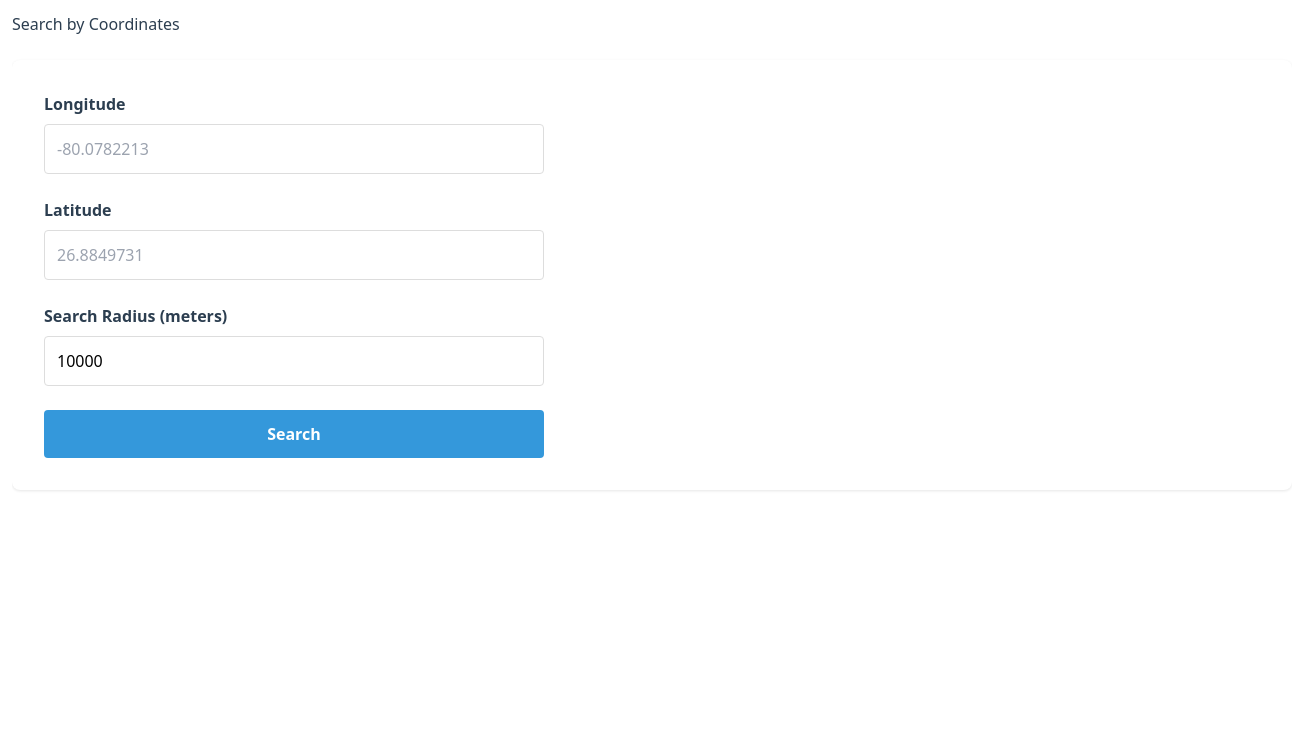
CoordinateSearch › should handle search API errors
In the field labelled "Longitude": (294, 149) [44,124,544,174], type "-80.078"
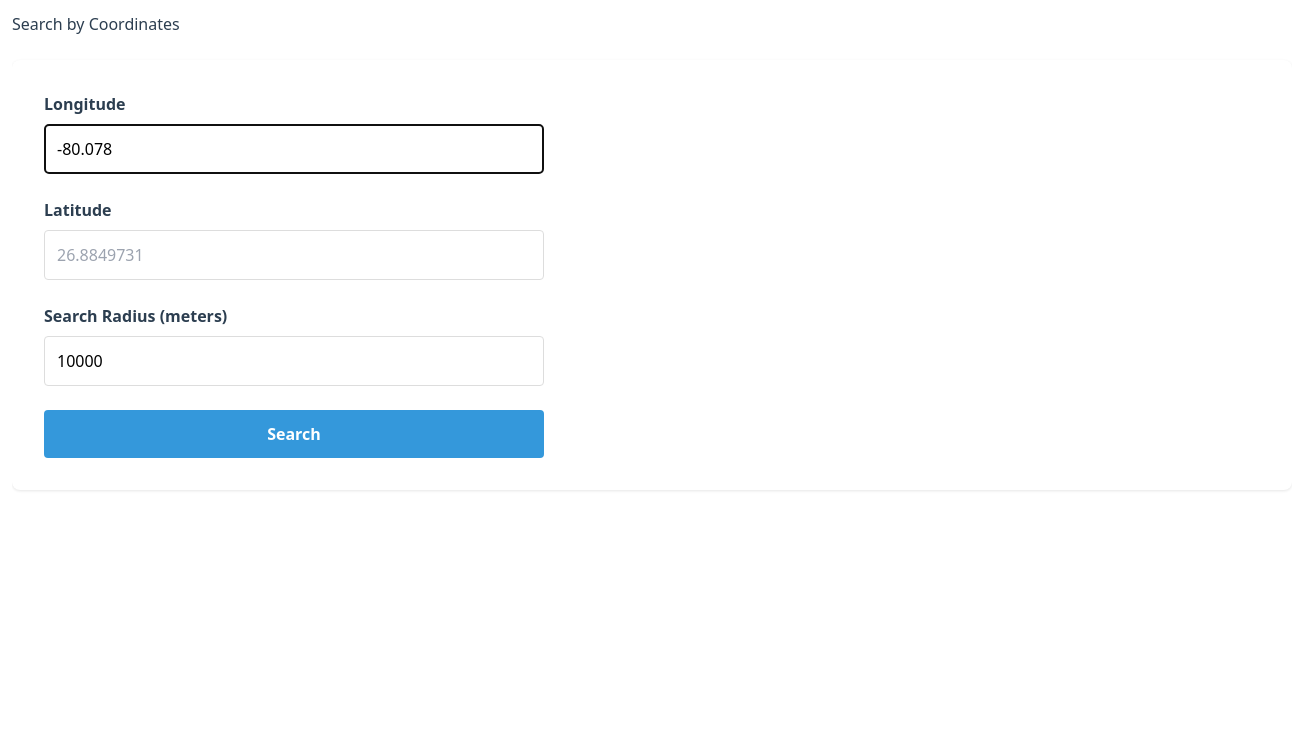
In the field labelled "Latitude": (294, 255) [44,230,544,280], type "26.885"
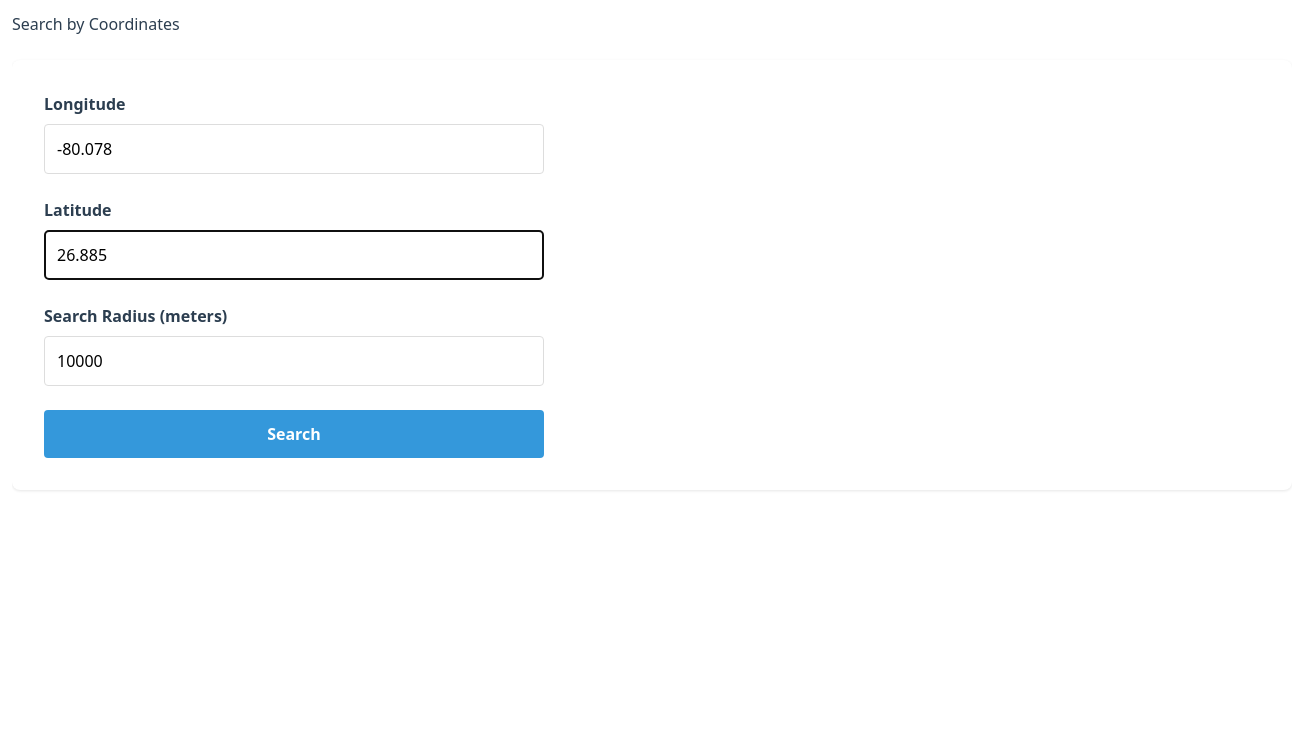
Click the button "Search": click(294, 434) [44,410,544,458]
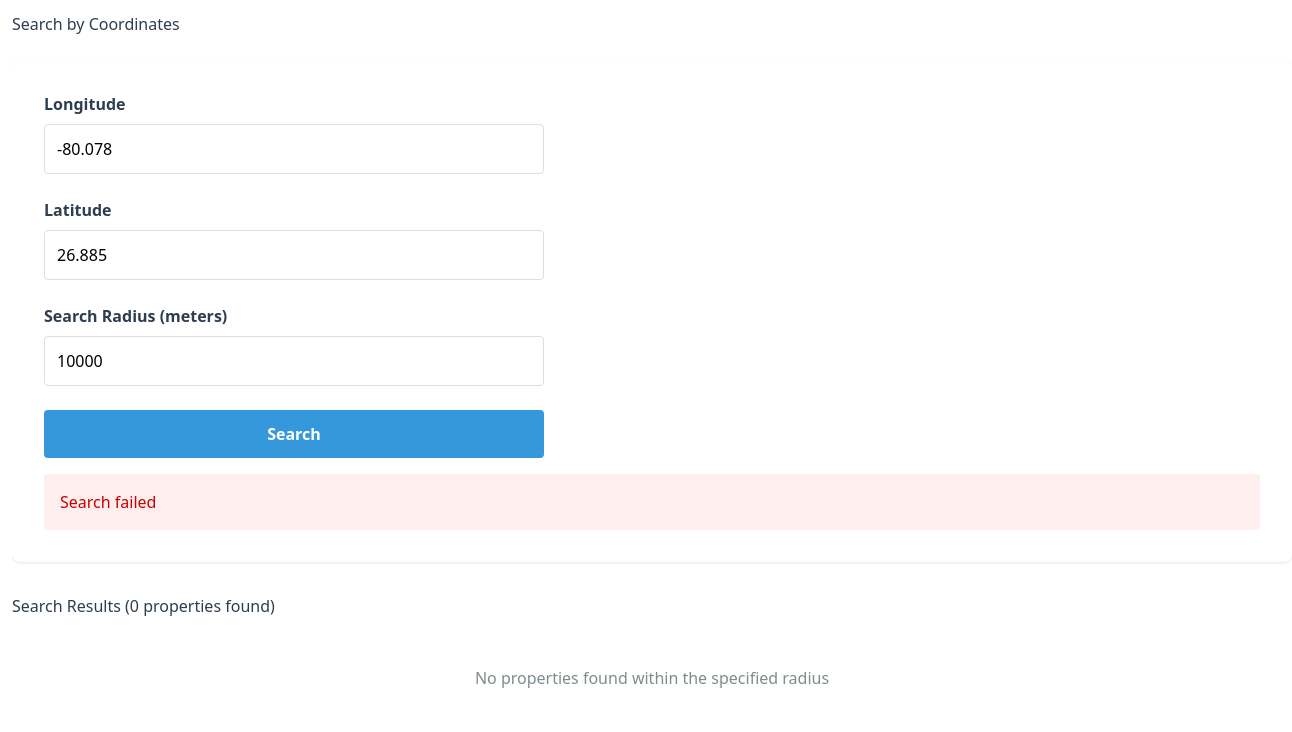
Now the text "Search failed" is shown, box [44,474,1260,530]
